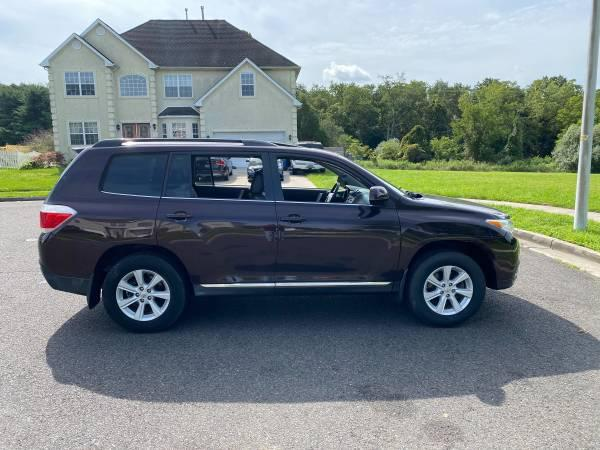Front_Bumper: (496, 240, 524, 298)
Front_Fender: (401, 199, 510, 293)
Front_Right_Door: (276, 199, 406, 289)
Front_Right_Window: (271, 151, 396, 209)
Rear_Bumper: (37, 233, 111, 302)
Rear_Fender: (42, 151, 174, 245)
Rear_Right_Door: (156, 198, 278, 294)
Rear_Right_Window: (162, 150, 278, 200)
Right_Headlight: (490, 219, 518, 243)
Right_Taillight: (38, 200, 79, 231)
Roof: (46, 135, 405, 201)
Wheel: (100, 250, 189, 330), (412, 251, 491, 327)
